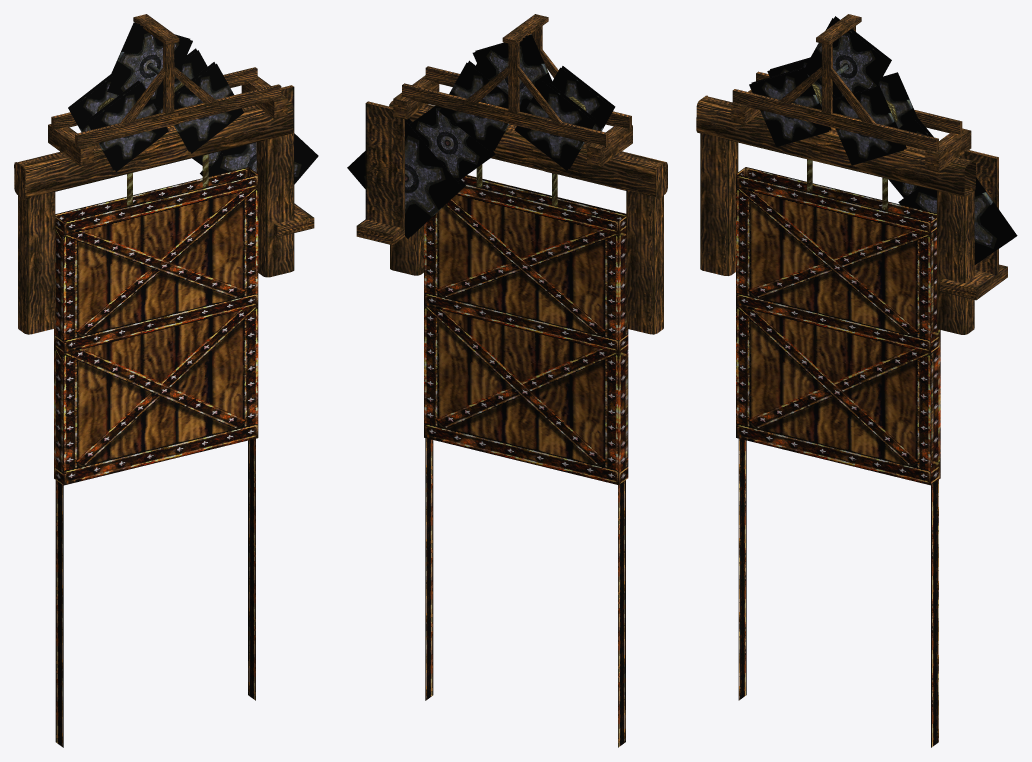
The model's file is INST_OH_EXITPORT.fbx.
3 renders of one model, left to right at view 1: azimuth 30°, elevation 25°; view 2: azimuth 150°, elevation 25°; view 3: azimuth 330°, elevation 25°, orthographic.
Visible parts, largest first — view 1: INST_OH_EXITPORT; view 2: INST_OH_EXITPORT; view 3: INST_OH_EXITPORT.
Part boxes in pixels (x1,y1,x2,y2): INST_OH_EXITPORT: (14, 14, 318, 747); INST_OH_EXITPORT: (347, 14, 667, 747); INST_OH_EXITPORT: (696, 14, 1017, 747).
Size of the model in its own units: 37805 by 82337 by 8125.
7 materials, 7 textured.
